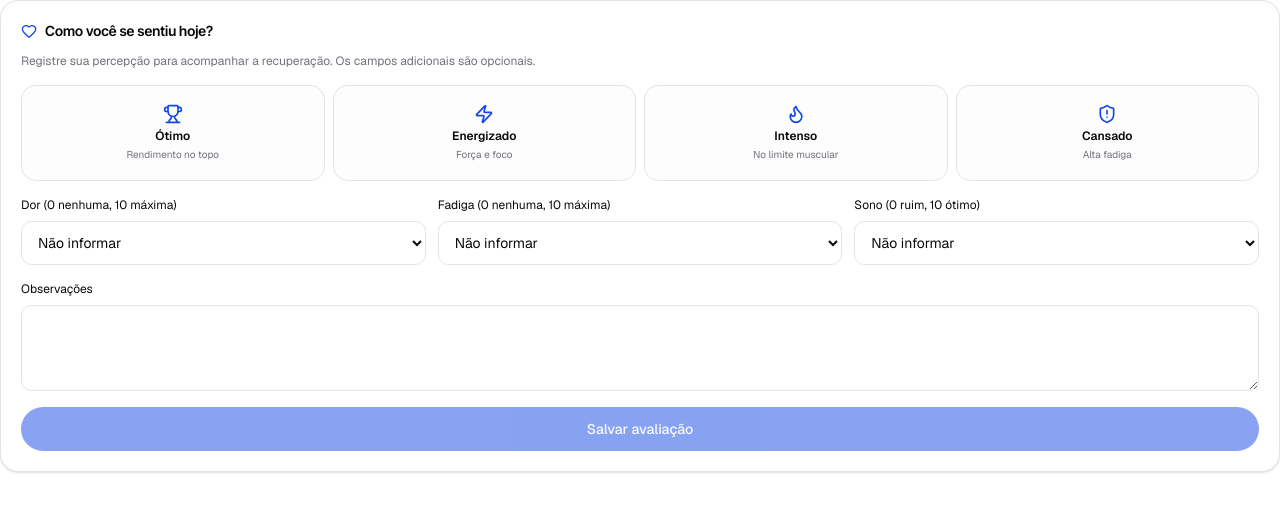
Test: Persistent session feedback › does not claim to save until the API succeeds and retains failed input for retry
Click the button "Cansado Alta fadiga" at (1107, 133), box left=956, top=85, right=1259, bottom=181
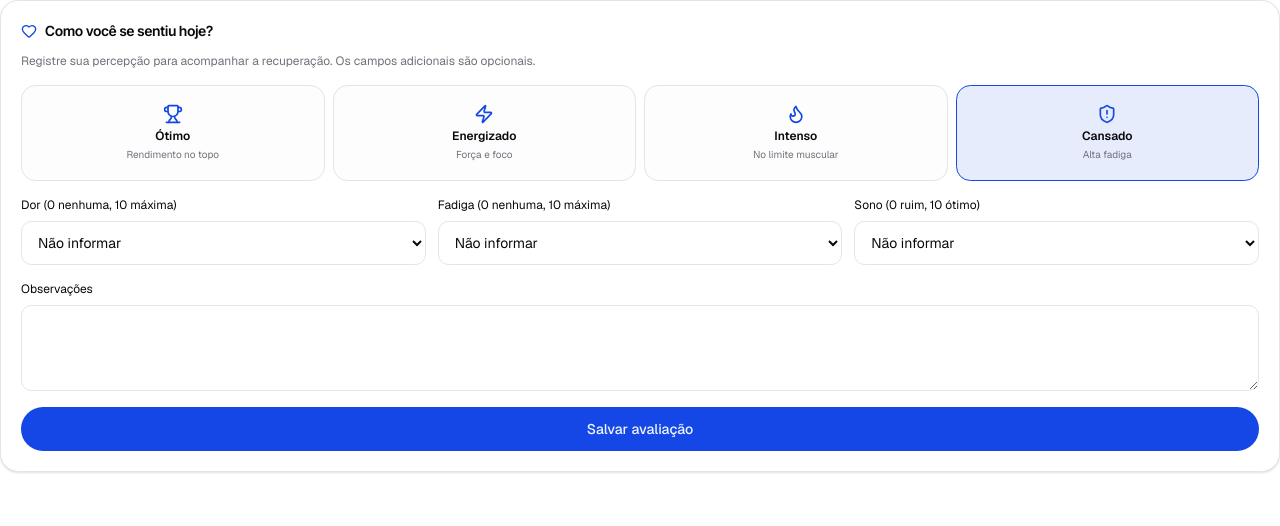
Type "Cansado hoje" into the text box labelled "Observações" at (640, 348), box left=21, top=305, right=1259, bottom=391
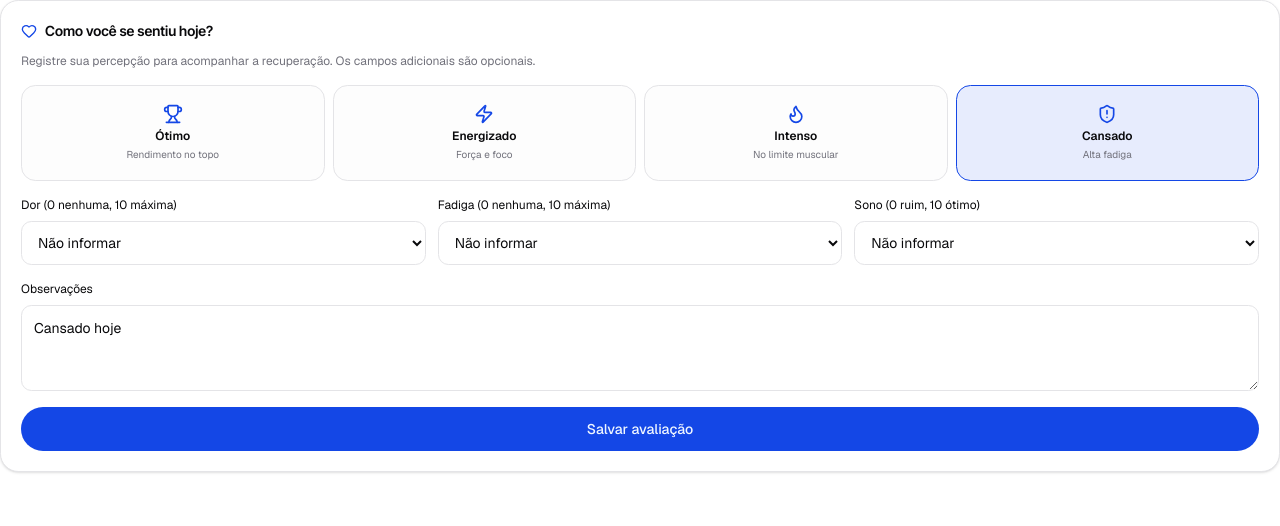
Click the button "Salvar avaliação" at (640, 429), box left=21, top=407, right=1259, bottom=451
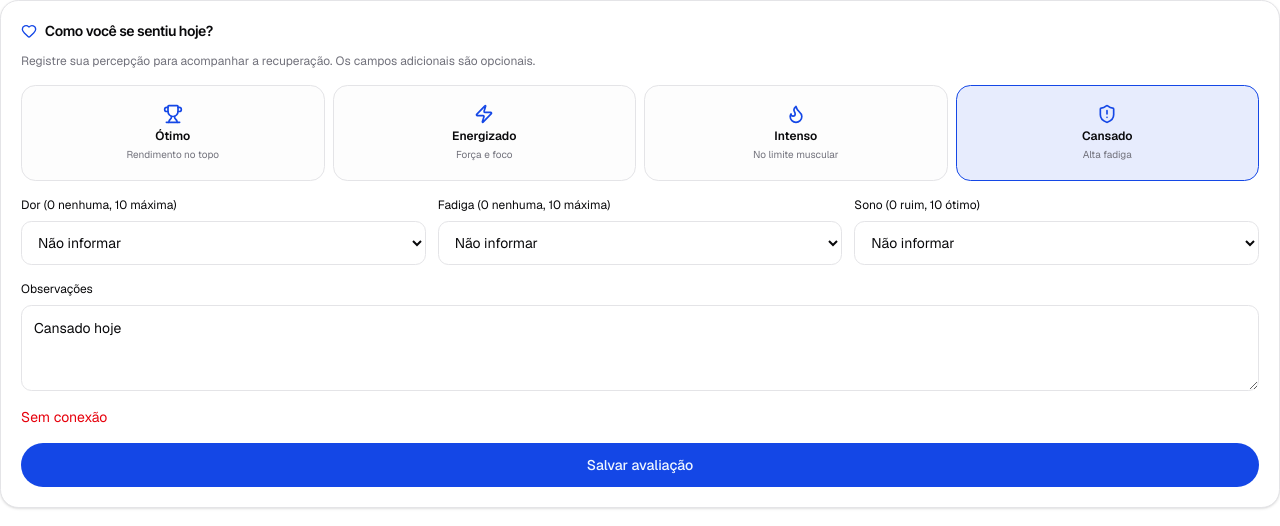
Check: the message reads "Sem conexão", box left=21, top=408, right=107, bottom=426
Click the button "Salvar avaliação" at (640, 465), box left=21, top=443, right=1259, bottom=487
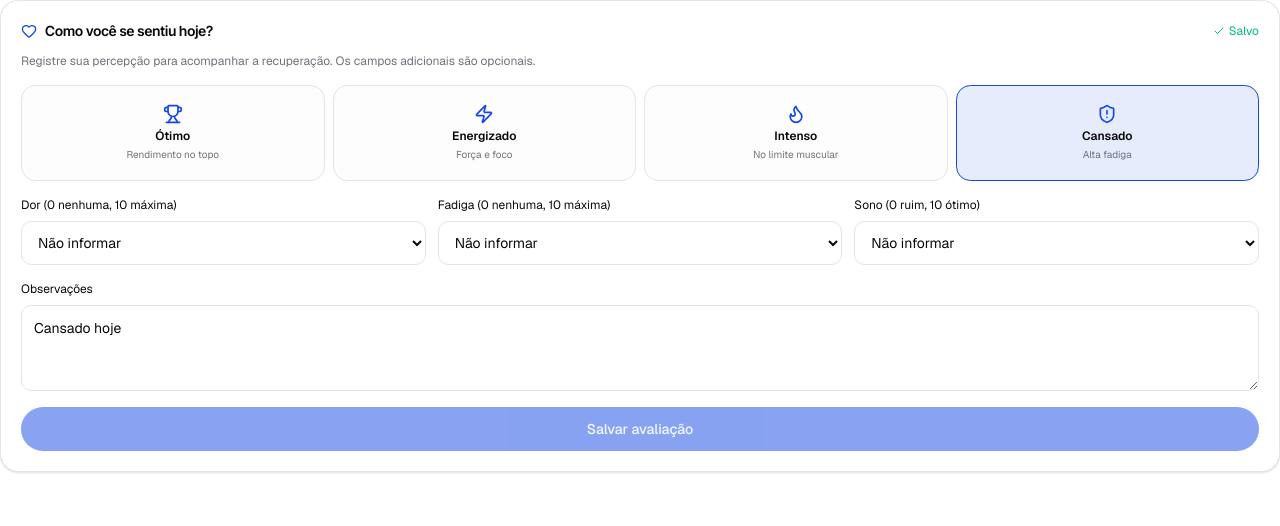
Check: the message reads "Salvo", box left=1229, top=23, right=1259, bottom=39
